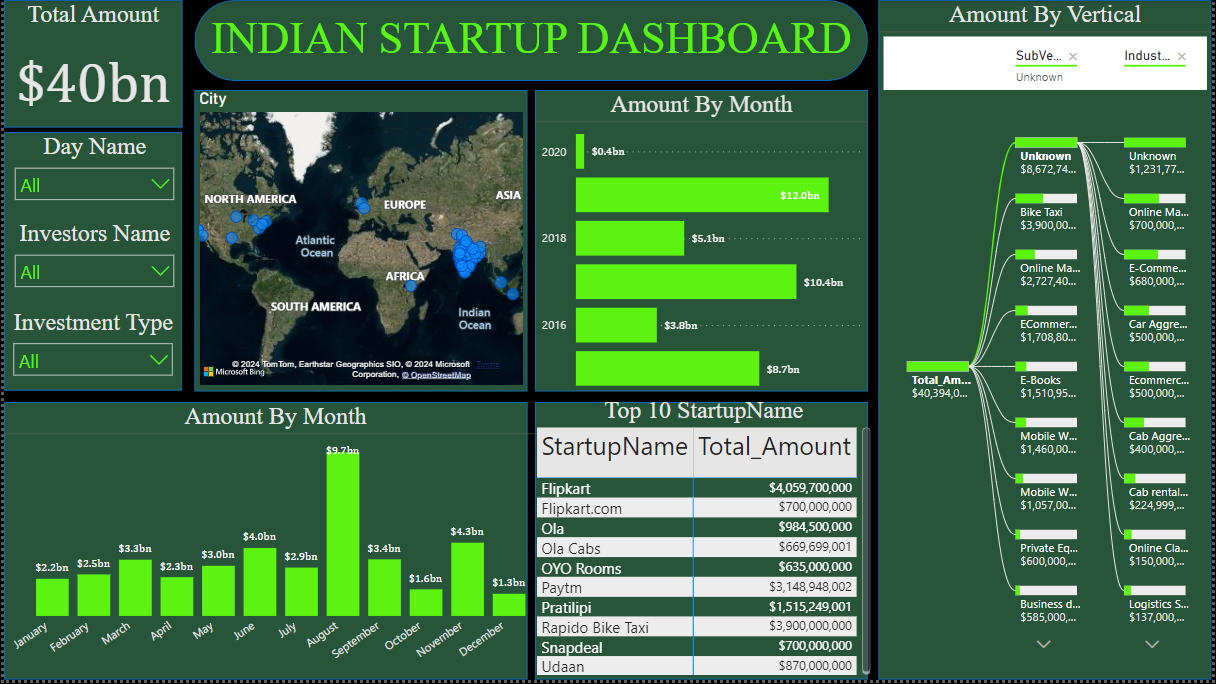

What the dashboard file says about the page in this screenshot:
{"tool":"powerbi","page":{"name":"Page 1","canvas":[1280,720],"ordinal":0},"visuals":[{"type":"shape","box":[201.9,95.4,352.8,319.5],"z":0},{"type":"shape","box":[926.6,0,352.8,720],"z":1000},{"type":"shape","box":[562.6,426,352.8,294],"z":2000},{"type":"shape","box":[0,426,554.7,294],"z":3000},{"type":"shape","box":[562.6,95.4,352.8,319.5],"z":4000},{"type":"shape","box":[0,0,189.1,135.1],"z":5000},{"type":"shape","box":[0,139.8,189,274],"z":6000},{"type":"card","title":"Total Amount","fields":{"Values":["Sheet1.Total_Amount"]},"box":[0,0,189.1,135.1],"z":7000},{"type":"columnChart","title":"Amount By Month","fields":{"Y":["Sheet1.Total_Amount"],"Category":["Sheet1.Date.Variation.Date Hierarchy.Month"]},"box":[0,426,575.4,294],"z":8000},{"type":"decompositionTreeVisual","title":"Amount By Vertical","fields":{"Analyze":["Sheet1.Total_Amount"],"ExplainBy":["Sheet1.SubVertical","Sheet1.IndustryVertical"]},"box":[926.6,0,352.8,720],"z":9000},{"type":"slicer","title":"Day Name","fields":{"Values":["Sheet1.Date.Variation.Date Hierarchy.Year"]},"box":[1.9,139.8,189,86.9],"z":10000},{"type":"slicer","title":"Investors Name","fields":{"Values":["Sheet1.InvestorsName"]},"box":[1.9,232.4,189,92.6],"z":11000},{"type":"pivotTable","title":"Top 10 StartupName","fields":{"Values":["Sheet1.Total_Amount"],"Rows":["Sheet1.StartupName"]},"box":[559.5,419.6,364,300.4],"z":12000},{"type":"map","fields":{"Category":["Sheet1.City"]},"box":[202.2,94.5,353.4,319.4],"z":14000},{"type":"slicer","title":"Investment Type","fields":{"Values":["Sheet1.InvestmentType"]},"box":[0,325,189,88.8],"z":15000},{"type":"shape","box":[201.9,0,713.6,85.8],"z":16000},{"type":"card","title":"INDIAN STARTUP DASHBOARD","fields":{"Values":["Sheet1.Total_Amount"]},"box":[201.9,14.3,713.6,54],"z":17000},{"type":"clusteredBarChart","title":"Amount By Month","fields":{"Category":["Sheet1.Date.Variation.Date Hierarchy.Year"],"Y":["Sheet1.Total_Amount"]},"box":[562.6,95.4,352.8,317.9],"z":17001}]}

Visuals, with their boxes in screenshot pixels (x1, y1, x2, y2), scaled from the page's 1280x720 canvas onto the 1216x684 screenshot:
shape: <bbox>192, 91, 527, 394</bbox>
shape: <bbox>880, 0, 1215, 683</bbox>
shape: <bbox>534, 405, 870, 683</bbox>
shape: <bbox>0, 405, 527, 683</bbox>
shape: <bbox>534, 91, 870, 394</bbox>
shape: <bbox>0, 0, 180, 128</bbox>
shape: <bbox>0, 133, 180, 393</bbox>
"Total Amount" card: <bbox>0, 0, 180, 128</bbox>
"Amount By Month" columnChart: <bbox>0, 405, 547, 683</bbox>
"Amount By Vertical" decompositionTreeVisual: <bbox>880, 0, 1215, 683</bbox>
"Day Name" slicer: <bbox>2, 133, 181, 215</bbox>
"Investors Name" slicer: <bbox>2, 221, 181, 309</bbox>
"Top 10 StartupName" pivotTable: <bbox>532, 399, 877, 683</bbox>
map - Sheet1.City: <bbox>192, 90, 528, 393</bbox>
"Investment Type" slicer: <bbox>0, 309, 180, 393</bbox>
shape: <bbox>192, 0, 870, 82</bbox>
"INDIAN STARTUP DASHBOARD" card: <bbox>192, 14, 870, 65</bbox>
"Amount By Month" clusteredBarChart: <bbox>534, 91, 870, 393</bbox>
